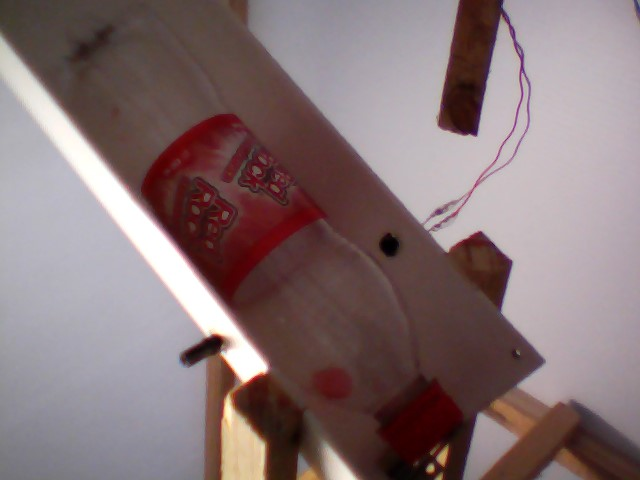plastico: (23, 1, 471, 472)
